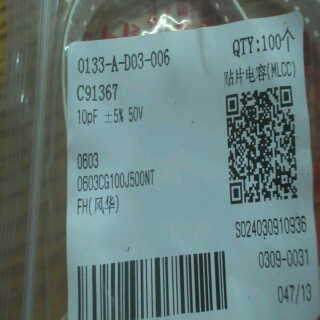10pF: (75, 106, 100, 130)
